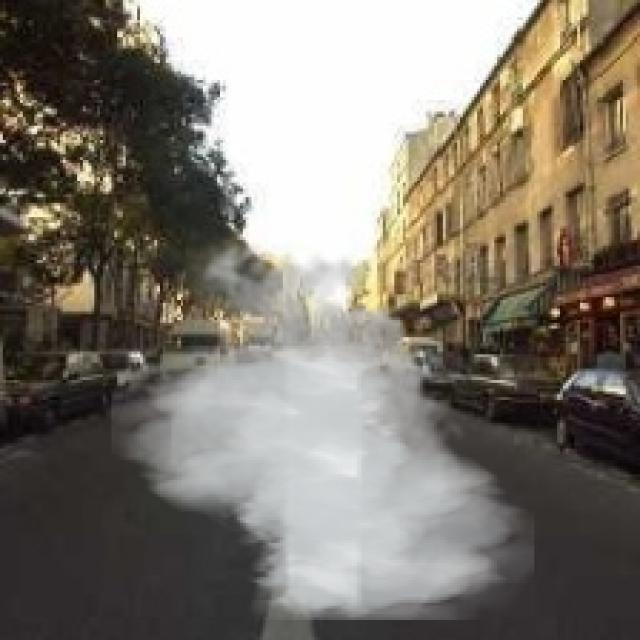smoke: (111, 231, 534, 620)
